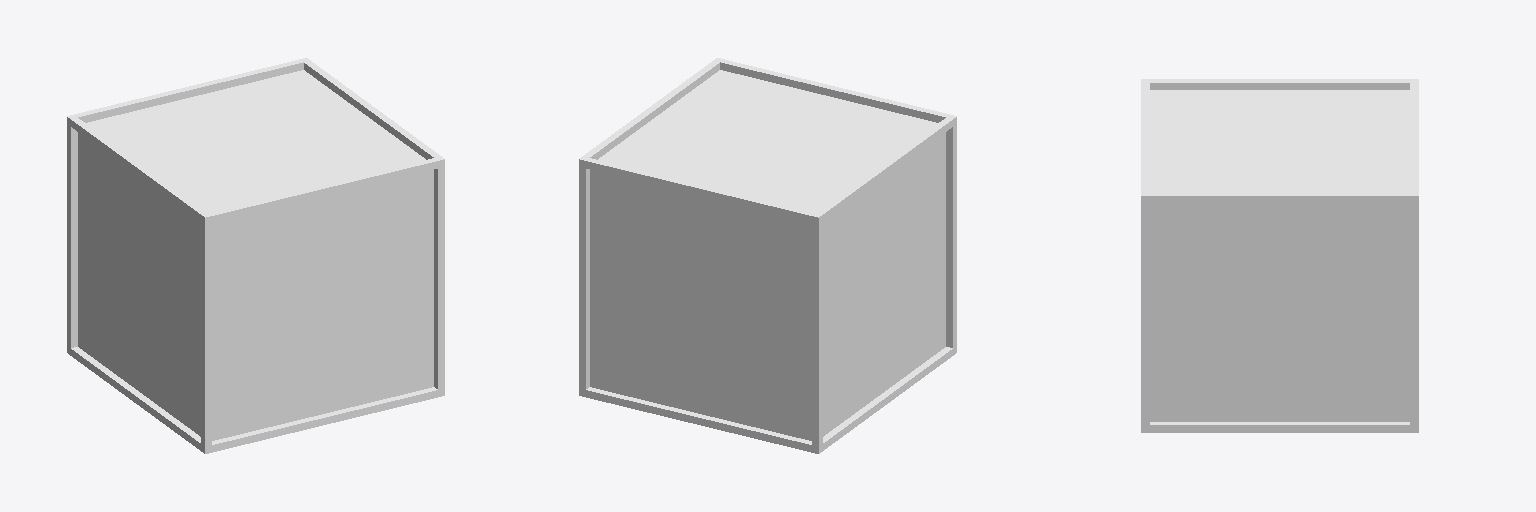
The model's file is bossLife.obj.
3 renders of one model, left to right at view 1: azimuth 30°, elevation 25°; view 2: azimuth 150°, elevation 25°; view 3: azimuth 270°, elevation 25°, orthographic.
Visible parts, largest first — view 1: object 1; view 2: object 1; view 3: object 1.
Boxes of the visible parts, x1,y1,x2,y2 form: object 1: [67, 58, 444, 453]; object 1: [579, 58, 956, 453]; object 1: [1141, 79, 1418, 432].
Bounding box in the file's own units: 3.4 × 3.2 × 3.4.